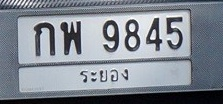txt01: (33, 21, 57, 57)
txt25: (59, 20, 83, 56)
